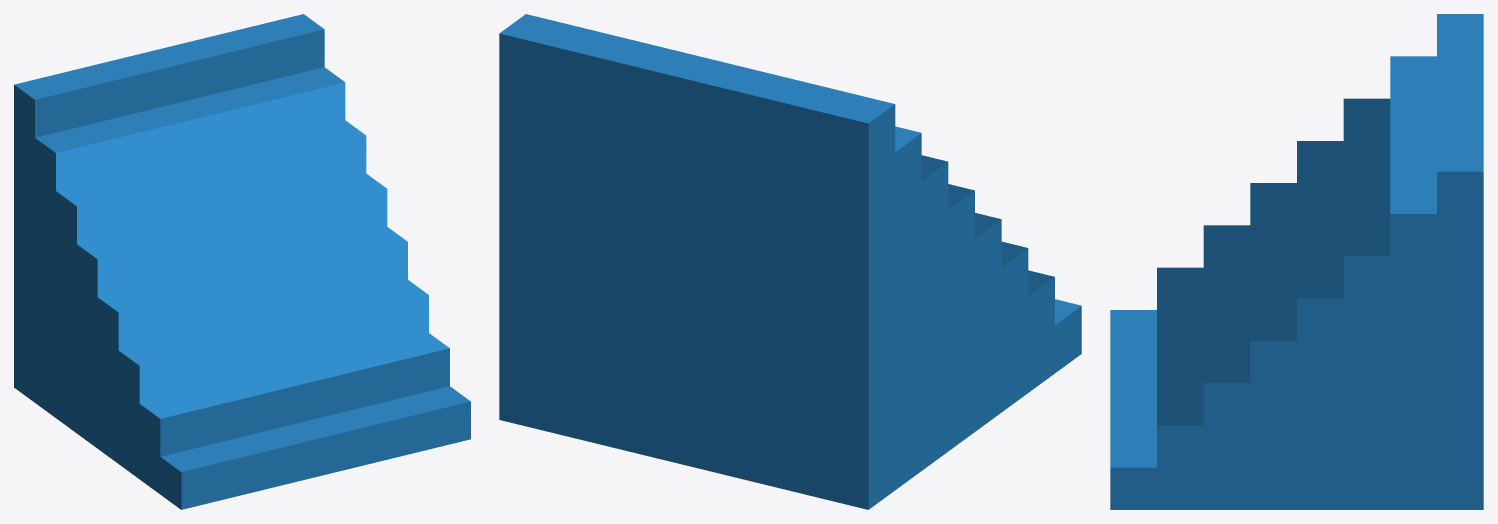
The model's file is pixel_art_128x128_stairs.glb.
The picture shows the model from 3 angles, left to right: view 1: azimuth 30°, elevation 25°; view 2: azimuth 150°, elevation 25°; view 3: azimuth 270°, elevation 25°; orthographic projection. The views are drawn at different scales.
Parts seen in each view (by area): view 1: Cube.001; view 2: Cube.001; view 3: Cube.001.
Boxes of the visible parts, left/top/right/bottom form: Cube.001: left=14, top=14, right=470, bottom=509; Cube.001: left=499, top=14, right=1081, bottom=509; Cube.001: left=1110, top=14, right=1483, bottom=509.
Bounding box in the file's own units: 2 × 2 × 2.
1 material, 1 textured.
